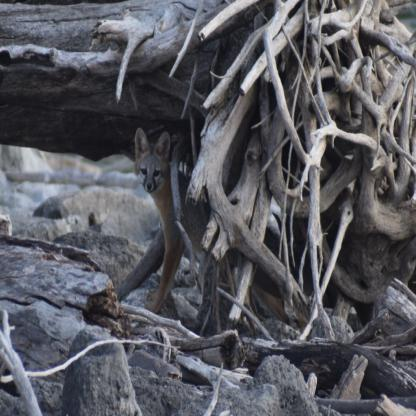zorro: (128, 125, 242, 332)
